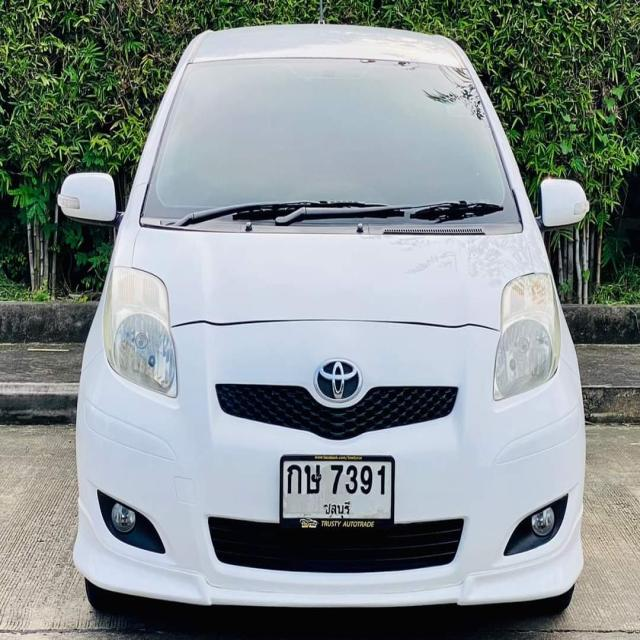license_plate: (280, 453, 395, 535)
